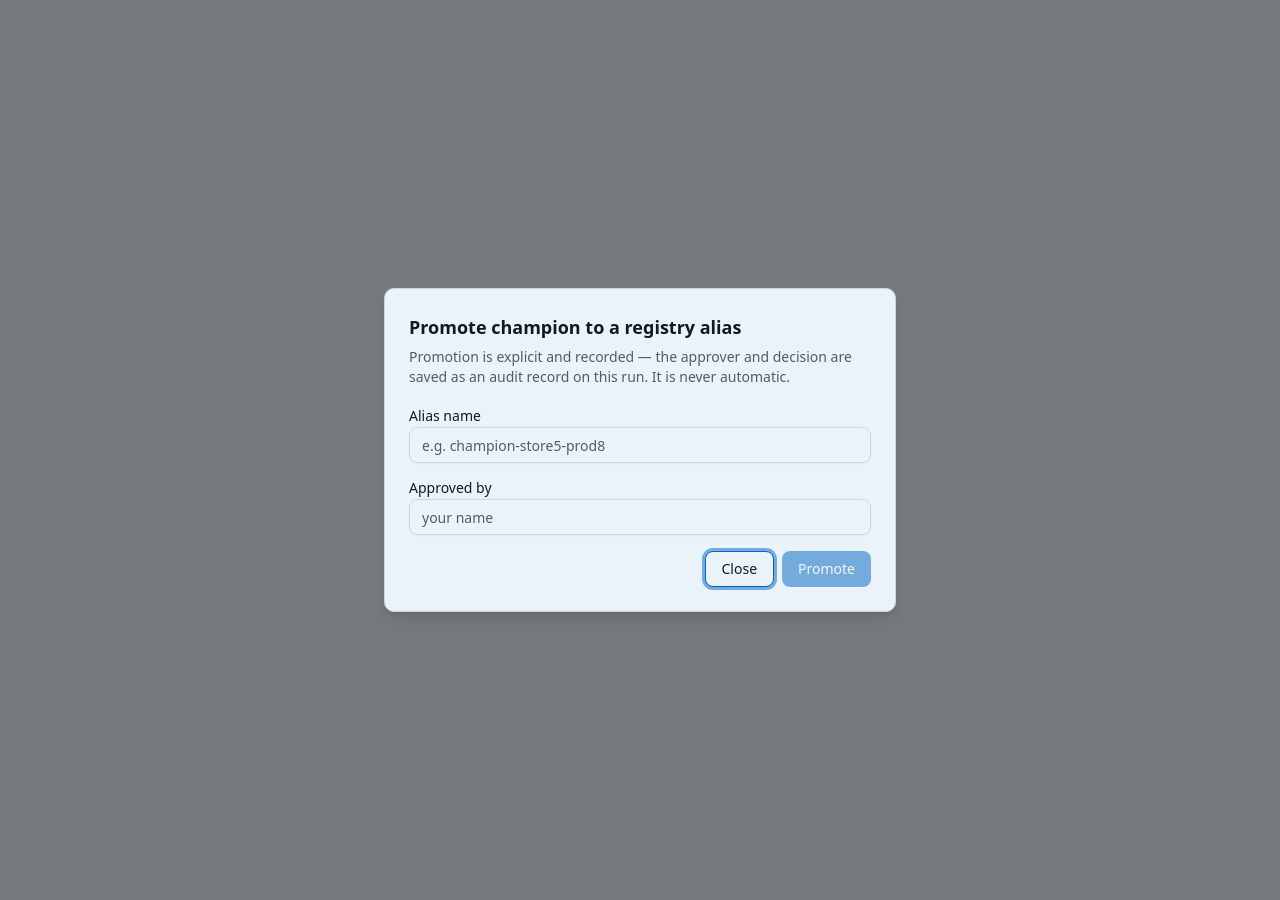
it: PromoteChampionDialog › flags an invalid alias name
Type "Bad Alias" into the field with test id "promote-alias-input" at (640, 445), box [409,427,871,463]
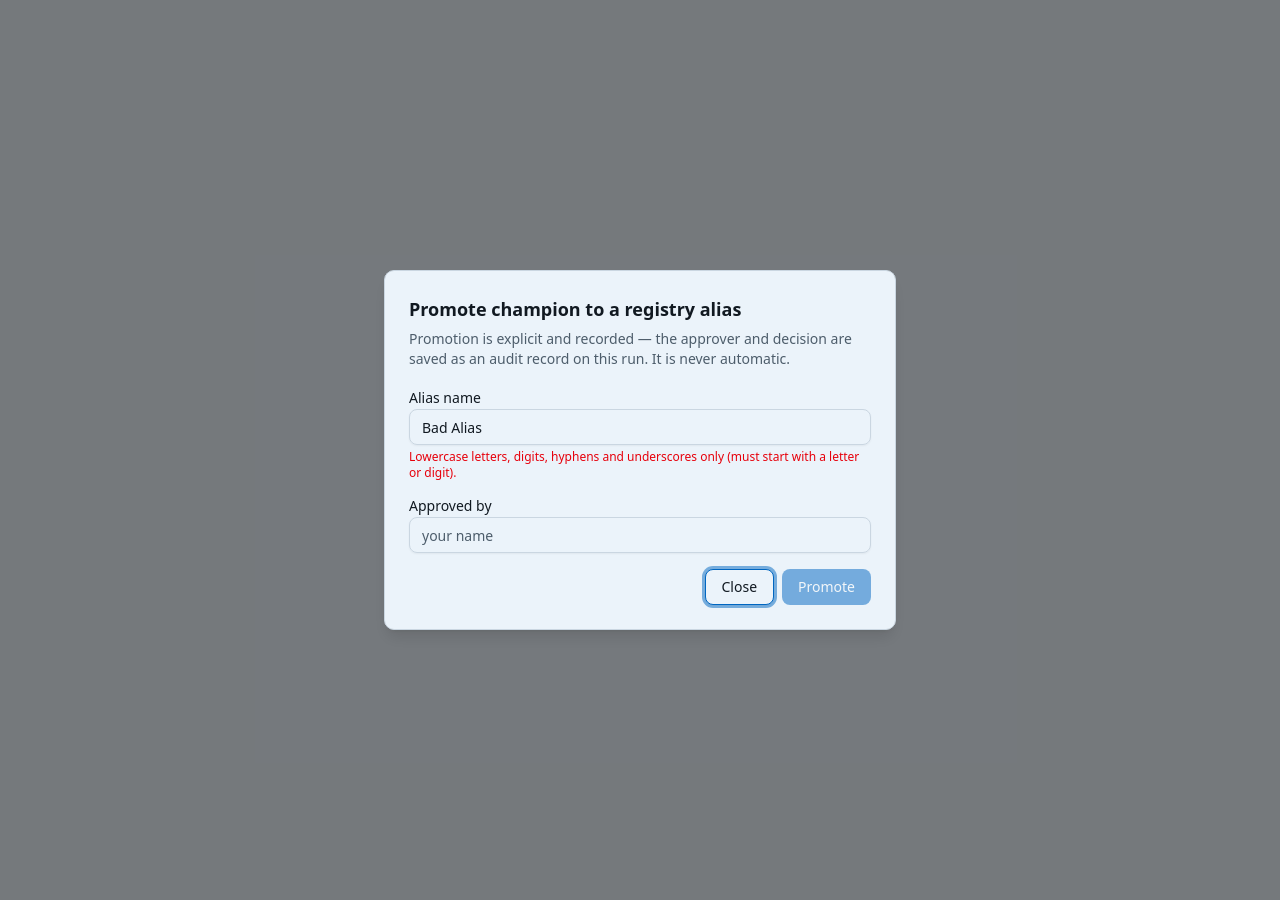
Expected: the text with test id "promote-alias-error" is shown, [409,449,871,481]
